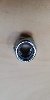Nut: (6, 36, 40, 66)
